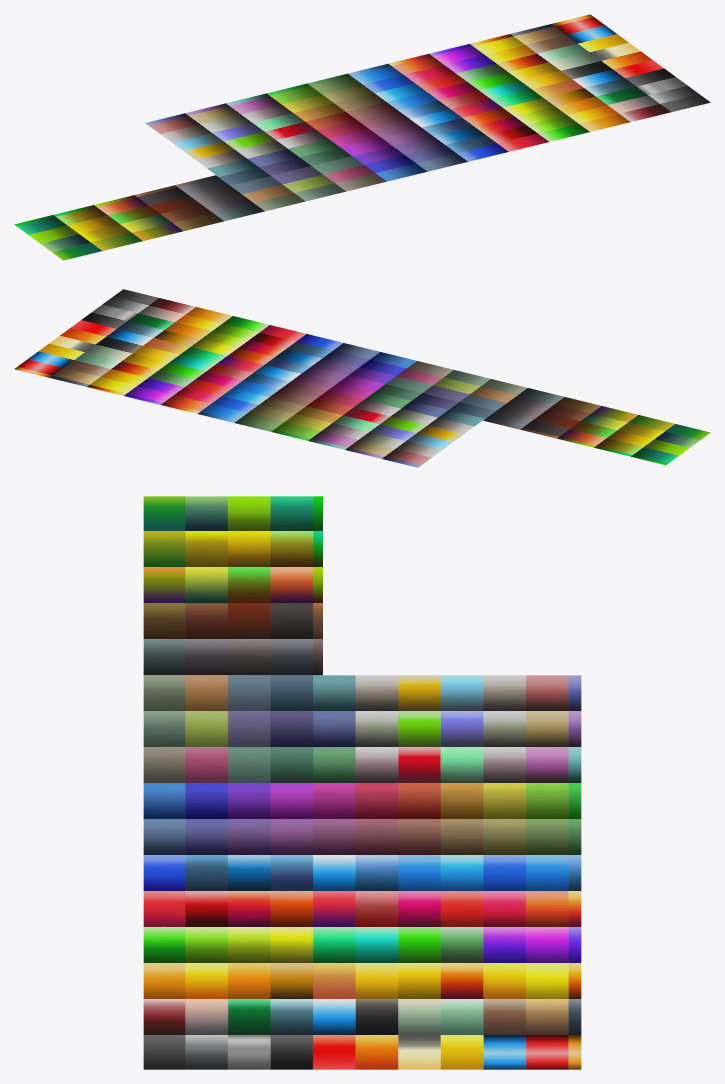
3 views of the same model, one above another, from view 1: azimuth 30°, elevation 25°; view 2: azimuth 150°, elevation 25°; view 3: azimuth 270°, elevation 25° (orthographic). The views are drawn at different scales.
Parts seen in each view (by area): view 1: Plane; view 2: Plane; view 3: Plane.
Boxes of the visible parts, x1,y1,x2,y2 form: Plane: [14, 14, 710, 260]; Plane: [14, 289, 710, 467]; Plane: [143, 496, 581, 1069].
Bounding box in the file's own units: 5898 × 0 × 1902.
